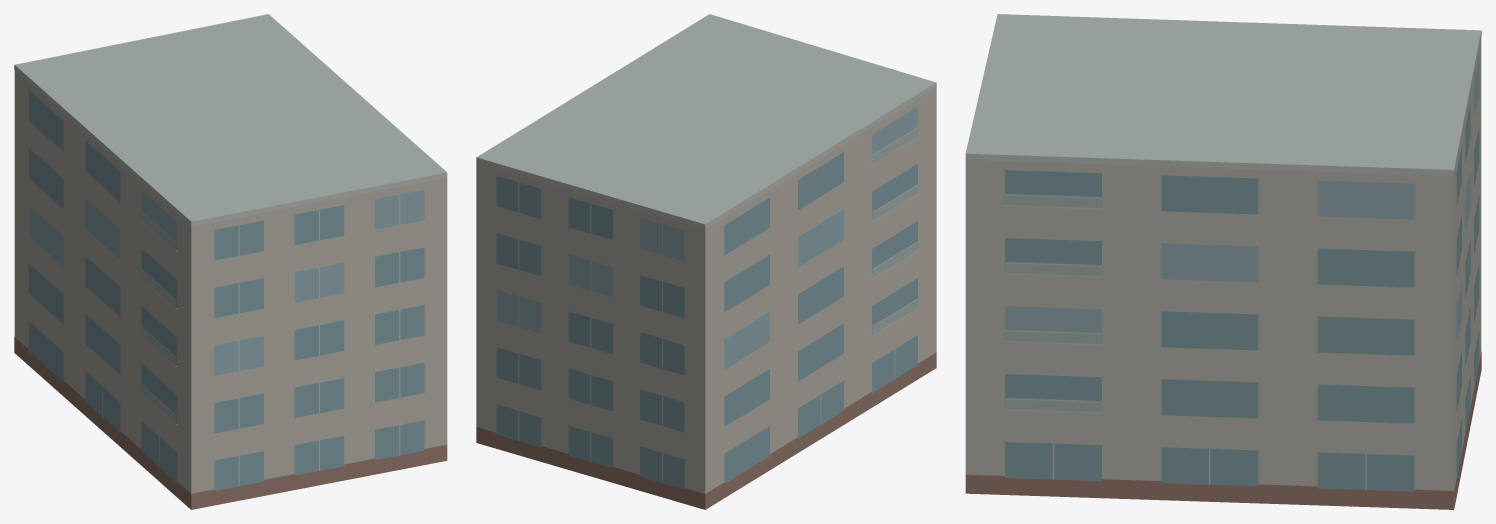
File: survey-upis-32916622.glb
3 renders of one model, left to right at view 1: azimuth 30°, elevation 25°; view 2: azimuth 150°, elevation 25°; view 3: azimuth 270°, elevation 25°, orthographic. The views are drawn at different scales.
Parts seen in each view (by area): view 1: survey-upis-32916622.tmp; view 2: survey-upis-32916622.tmp; view 3: survey-upis-32916622.tmp.
Boxes of the visible parts, x1,y1,x2,y2 form: survey-upis-32916622.tmp: [14, 14, 447, 509]; survey-upis-32916622.tmp: [476, 14, 936, 509]; survey-upis-32916622.tmp: [965, 14, 1481, 509].
Size of the model in its own units: 13.19 by 13.4 by 18.44.
